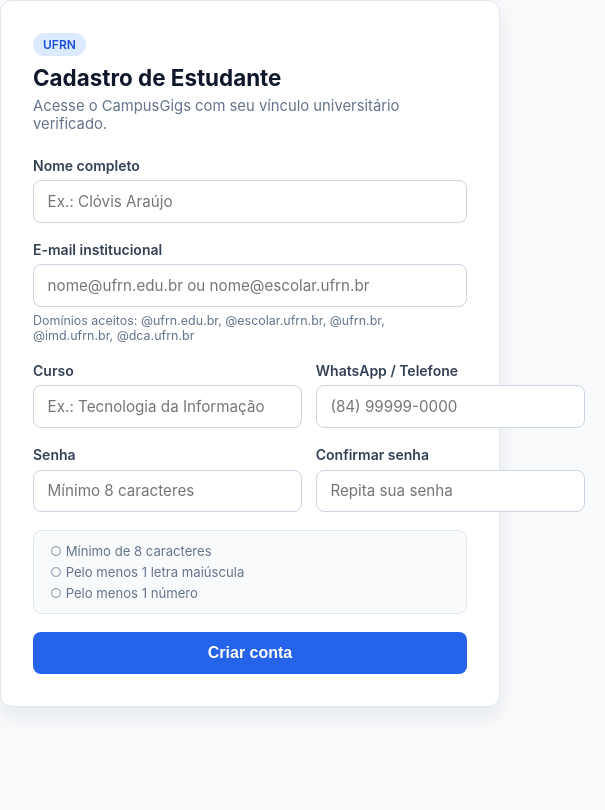
Test: RegisterForm › deve enviar o cadastro com sucesso quando o e-mail da UFRN e a senha são válidos
In the field labelled "Nome completo": (250, 201) 33,180 -> 467,223, type "Clóvis Araújo"
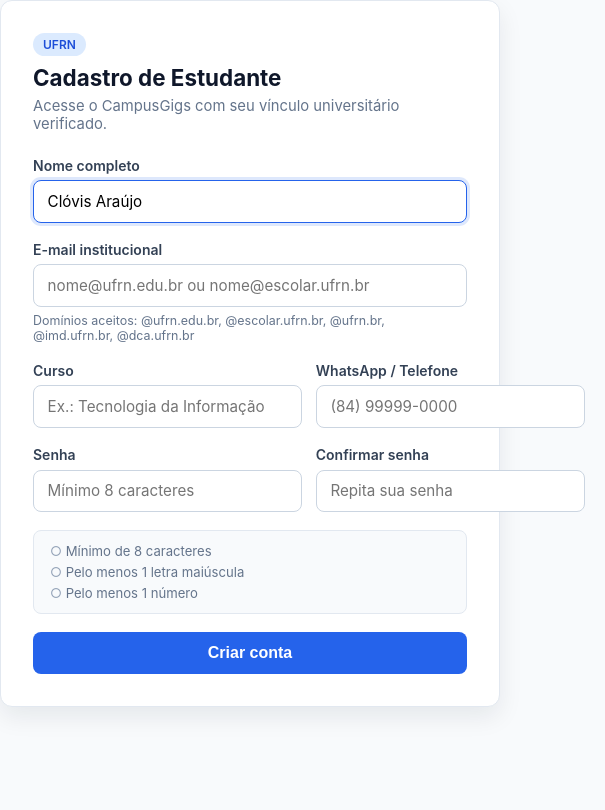
In the field labelled "E-mail institucional": (250, 286) 33,264 -> 467,307, type "clovis@ufrn.edu.br"
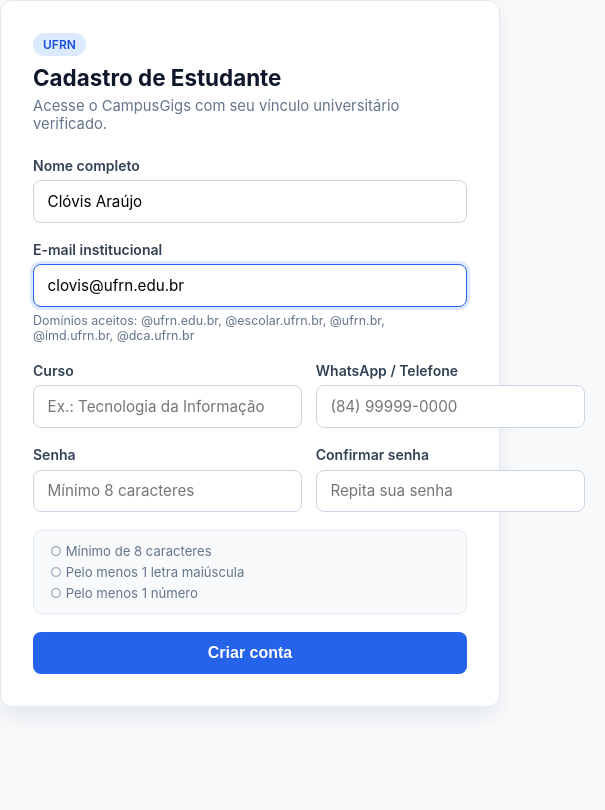
In the field labelled "Curso": (168, 406) 33,385 -> 302,428, type "TI"
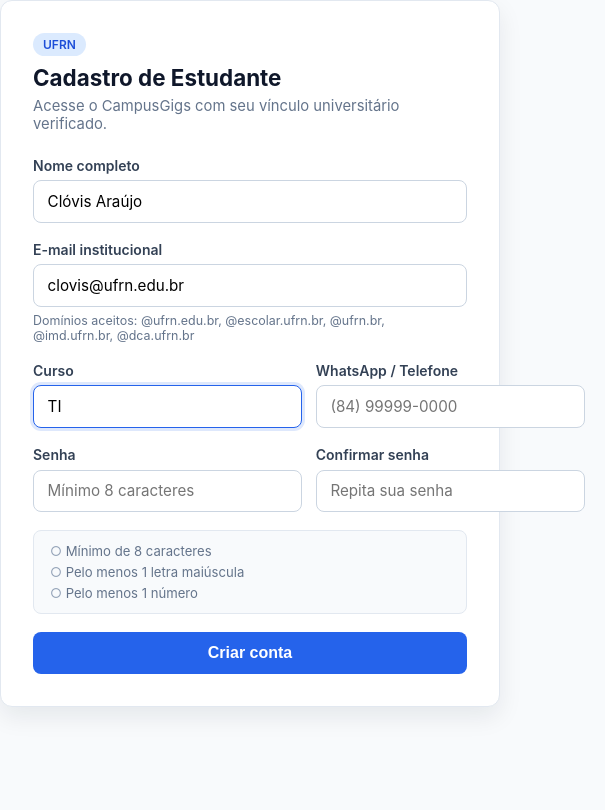
In the password field labelled "Senha": (168, 491) 33,470 -> 302,512, type "Campus2026"
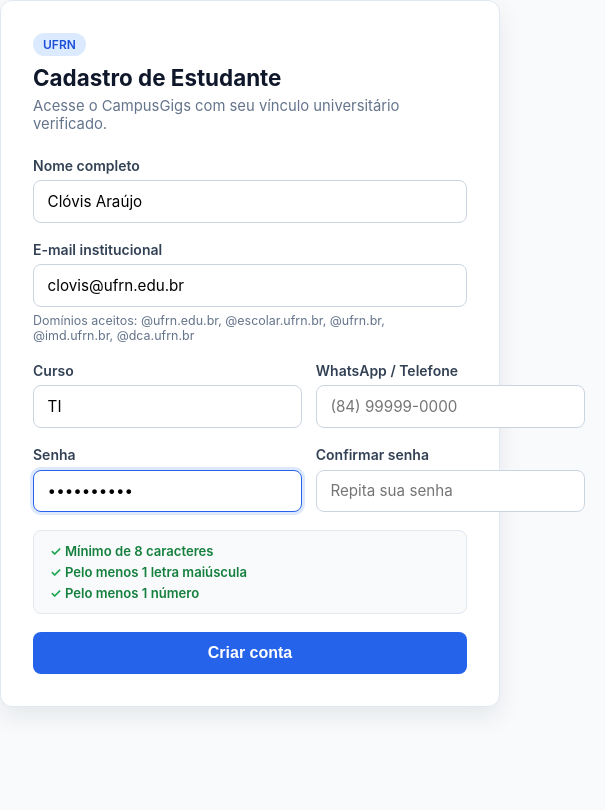
In the password field labelled "Confirmar senha": (450, 491) 316,470 -> 585,512, type "Campus2026"
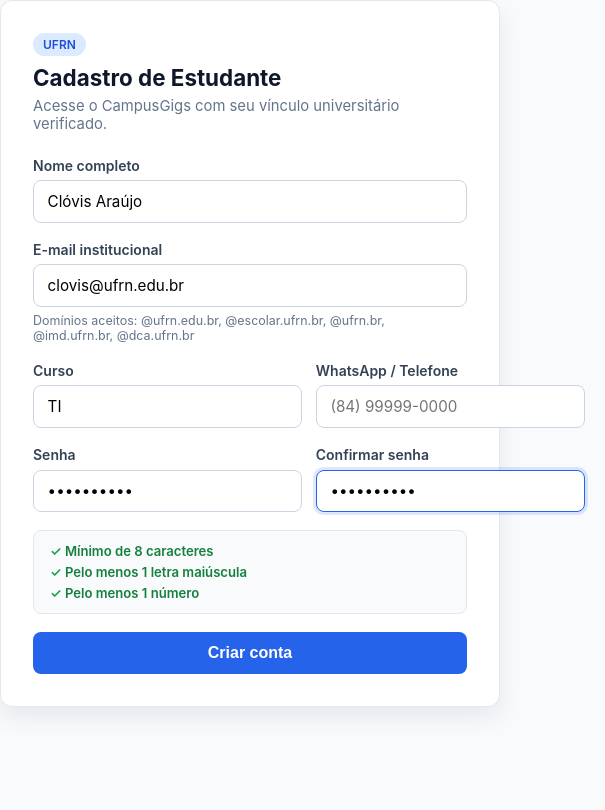
Click the button "Criar conta": (250, 654) 33,632 -> 467,674
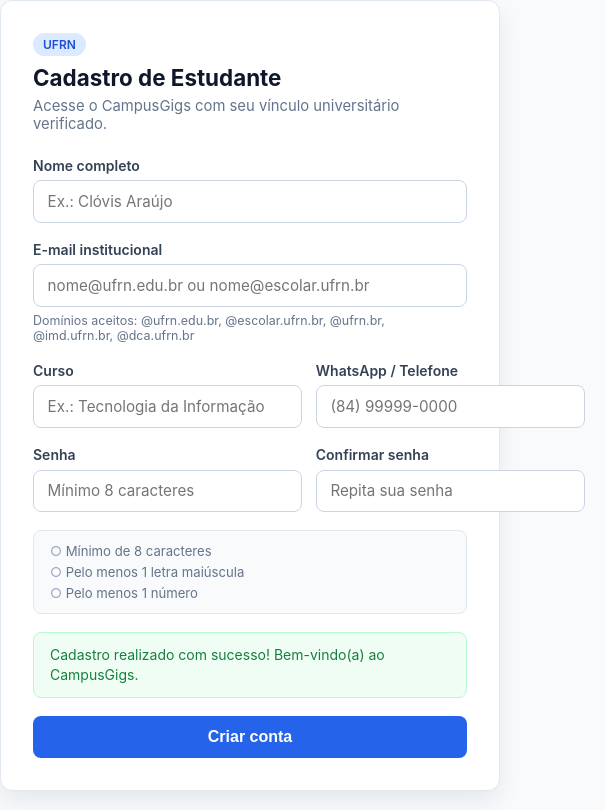
Result: the text "Cadastro realizado com sucesso! Bem-vindo(a) ao CampusGigs." is shown at 33,632 -> 467,698
